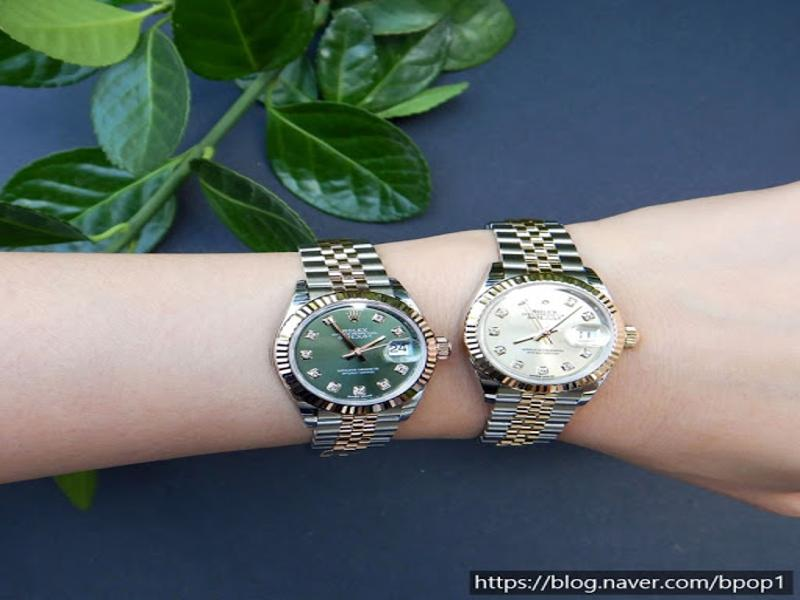watch: (267, 239, 452, 456), (463, 220, 639, 448)
